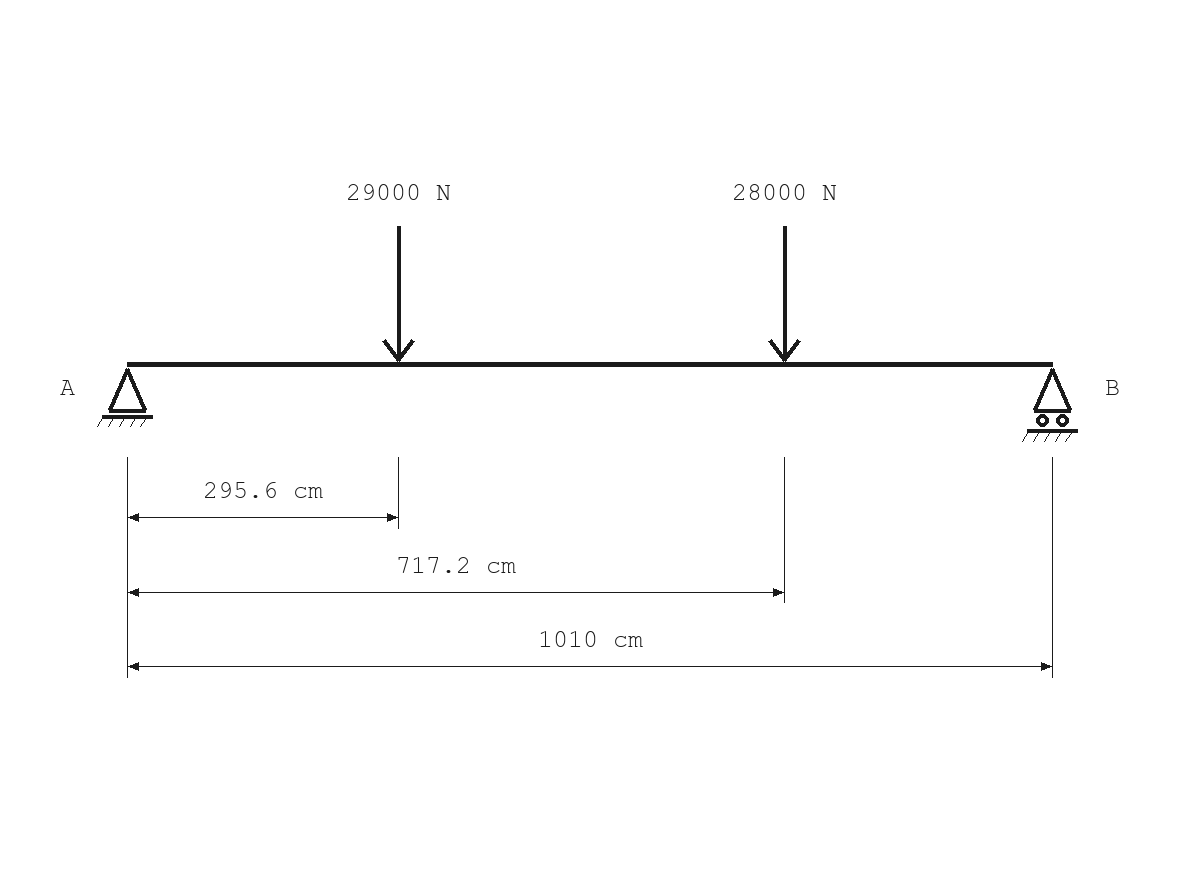pin_support: (97, 368, 153, 427)
point_load: (382, 226, 415, 362), (768, 226, 801, 362)
roller_support: (1022, 368, 1078, 442)
